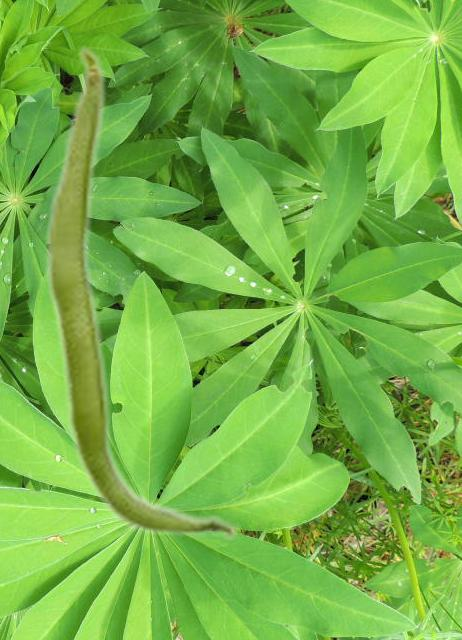french_bean: (42, 44, 240, 541)
